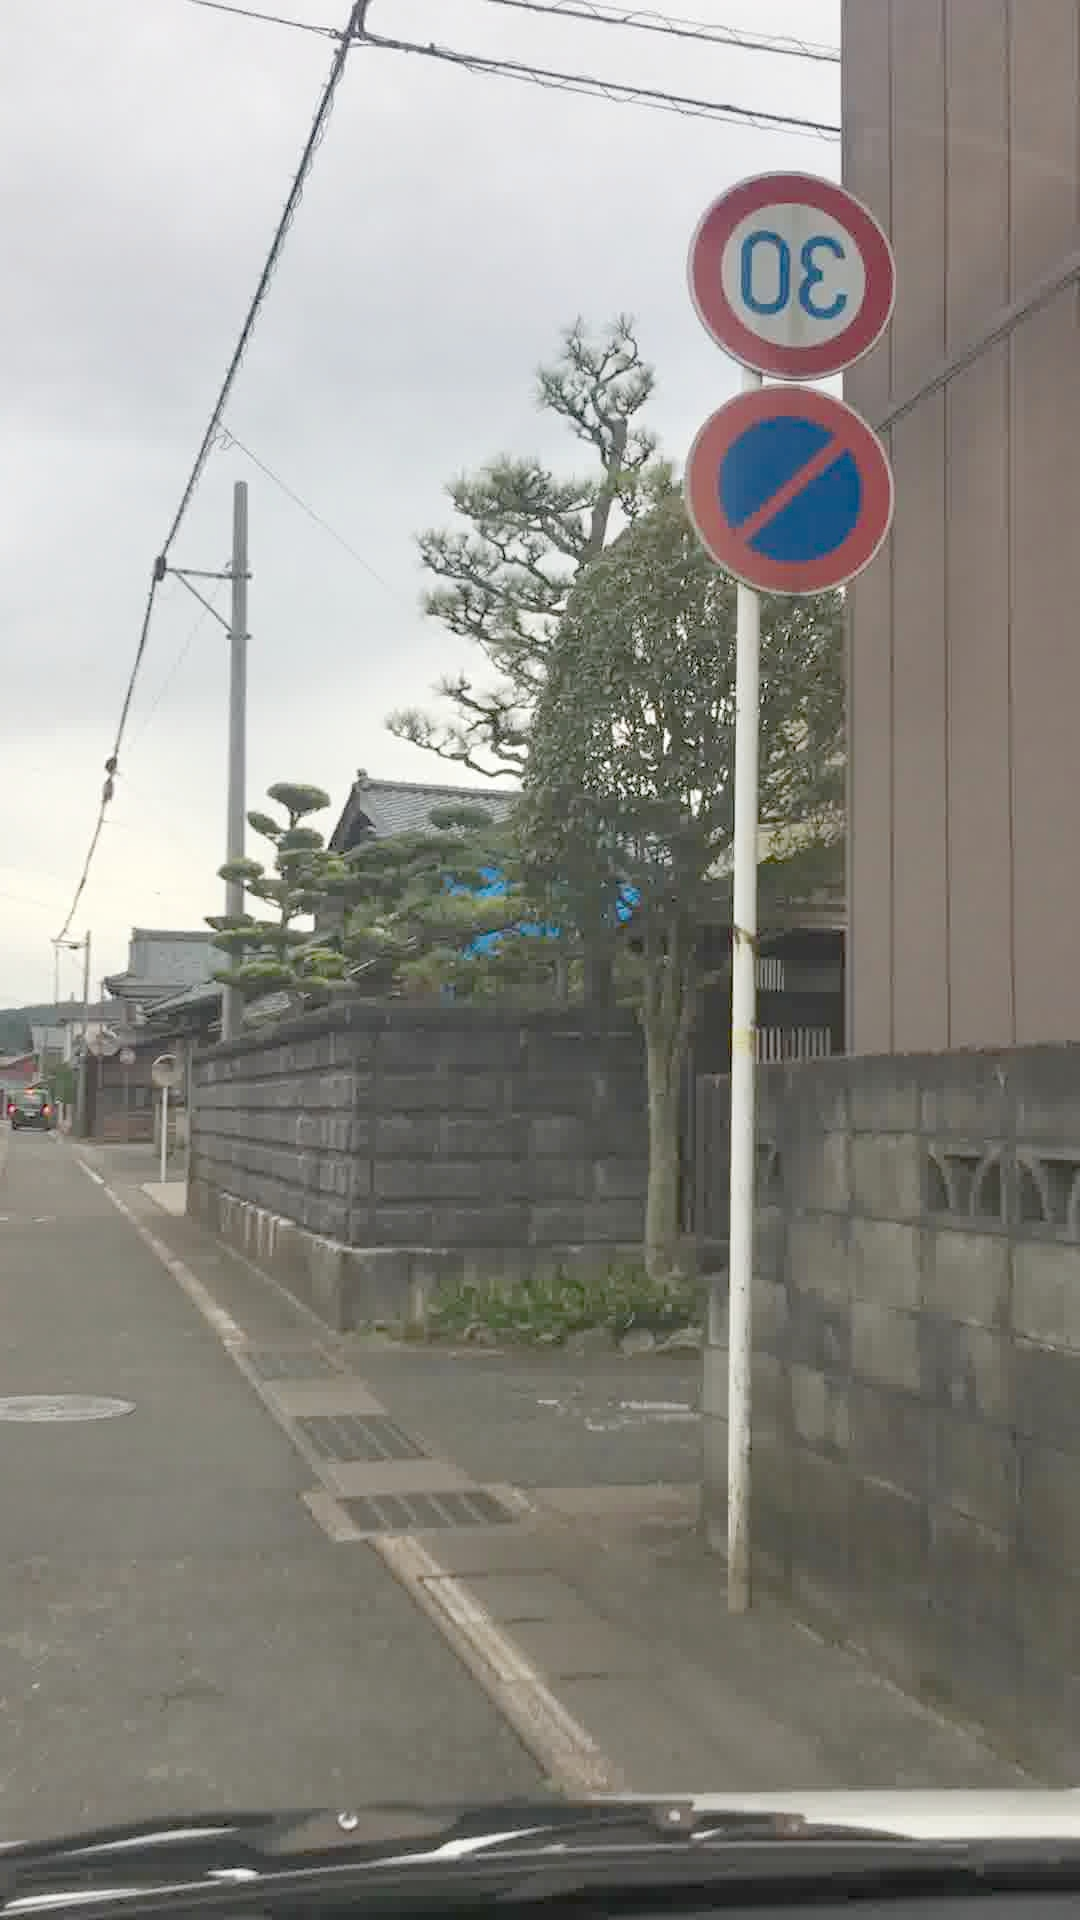Prohibition_sign: (673, 384, 899, 618)
Speed_sign: (674, 174, 905, 394)
